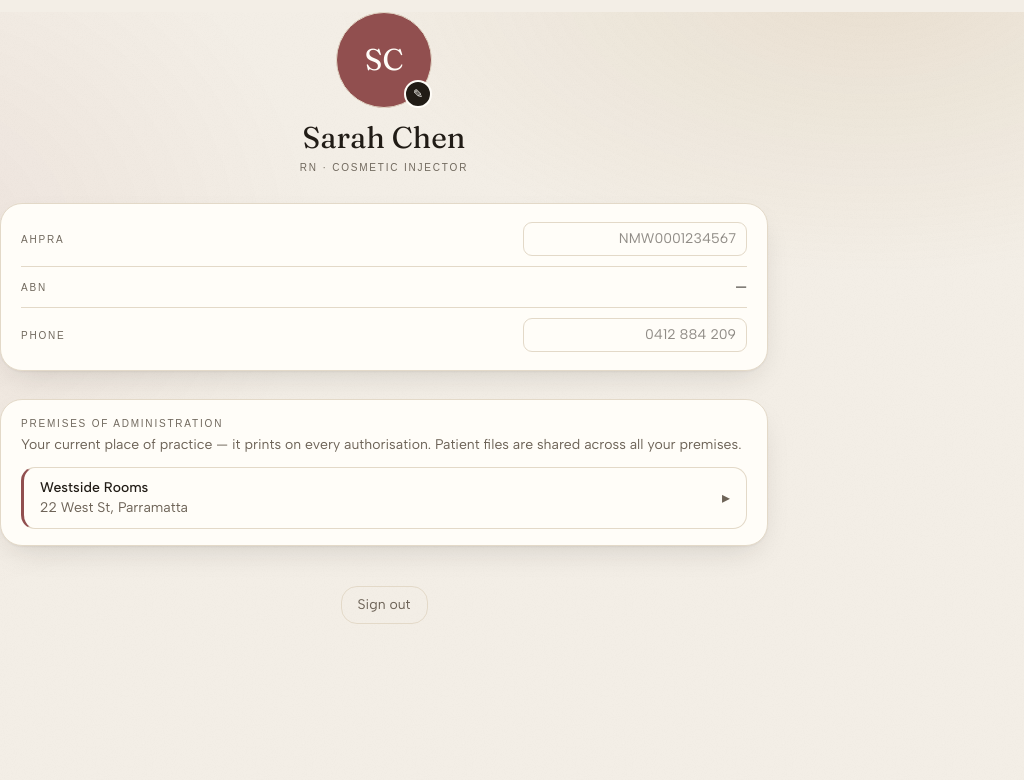
Test case: Profile — merged premises of administration (16/07 enhancement 1) › management actions sit at the bottom of the open list (Add after every row)
Click the button "Westside Rooms 22 West St, Parramatta ▸": (94, 488) 21,467 -> 747,529
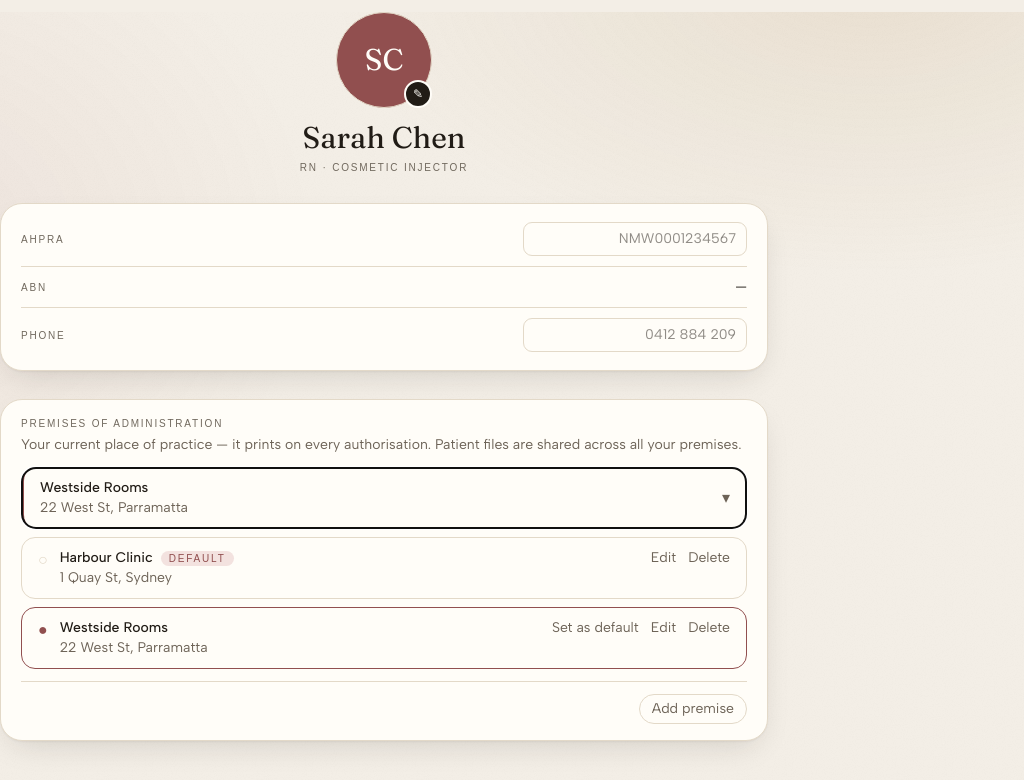
Now the number of buttons "Edit" is 2, box 651,548 -> 676,568; 651,618 -> 676,638
Now the number of buttons "Delete" is 2, box 688,548 -> 730,568; 688,618 -> 730,638
